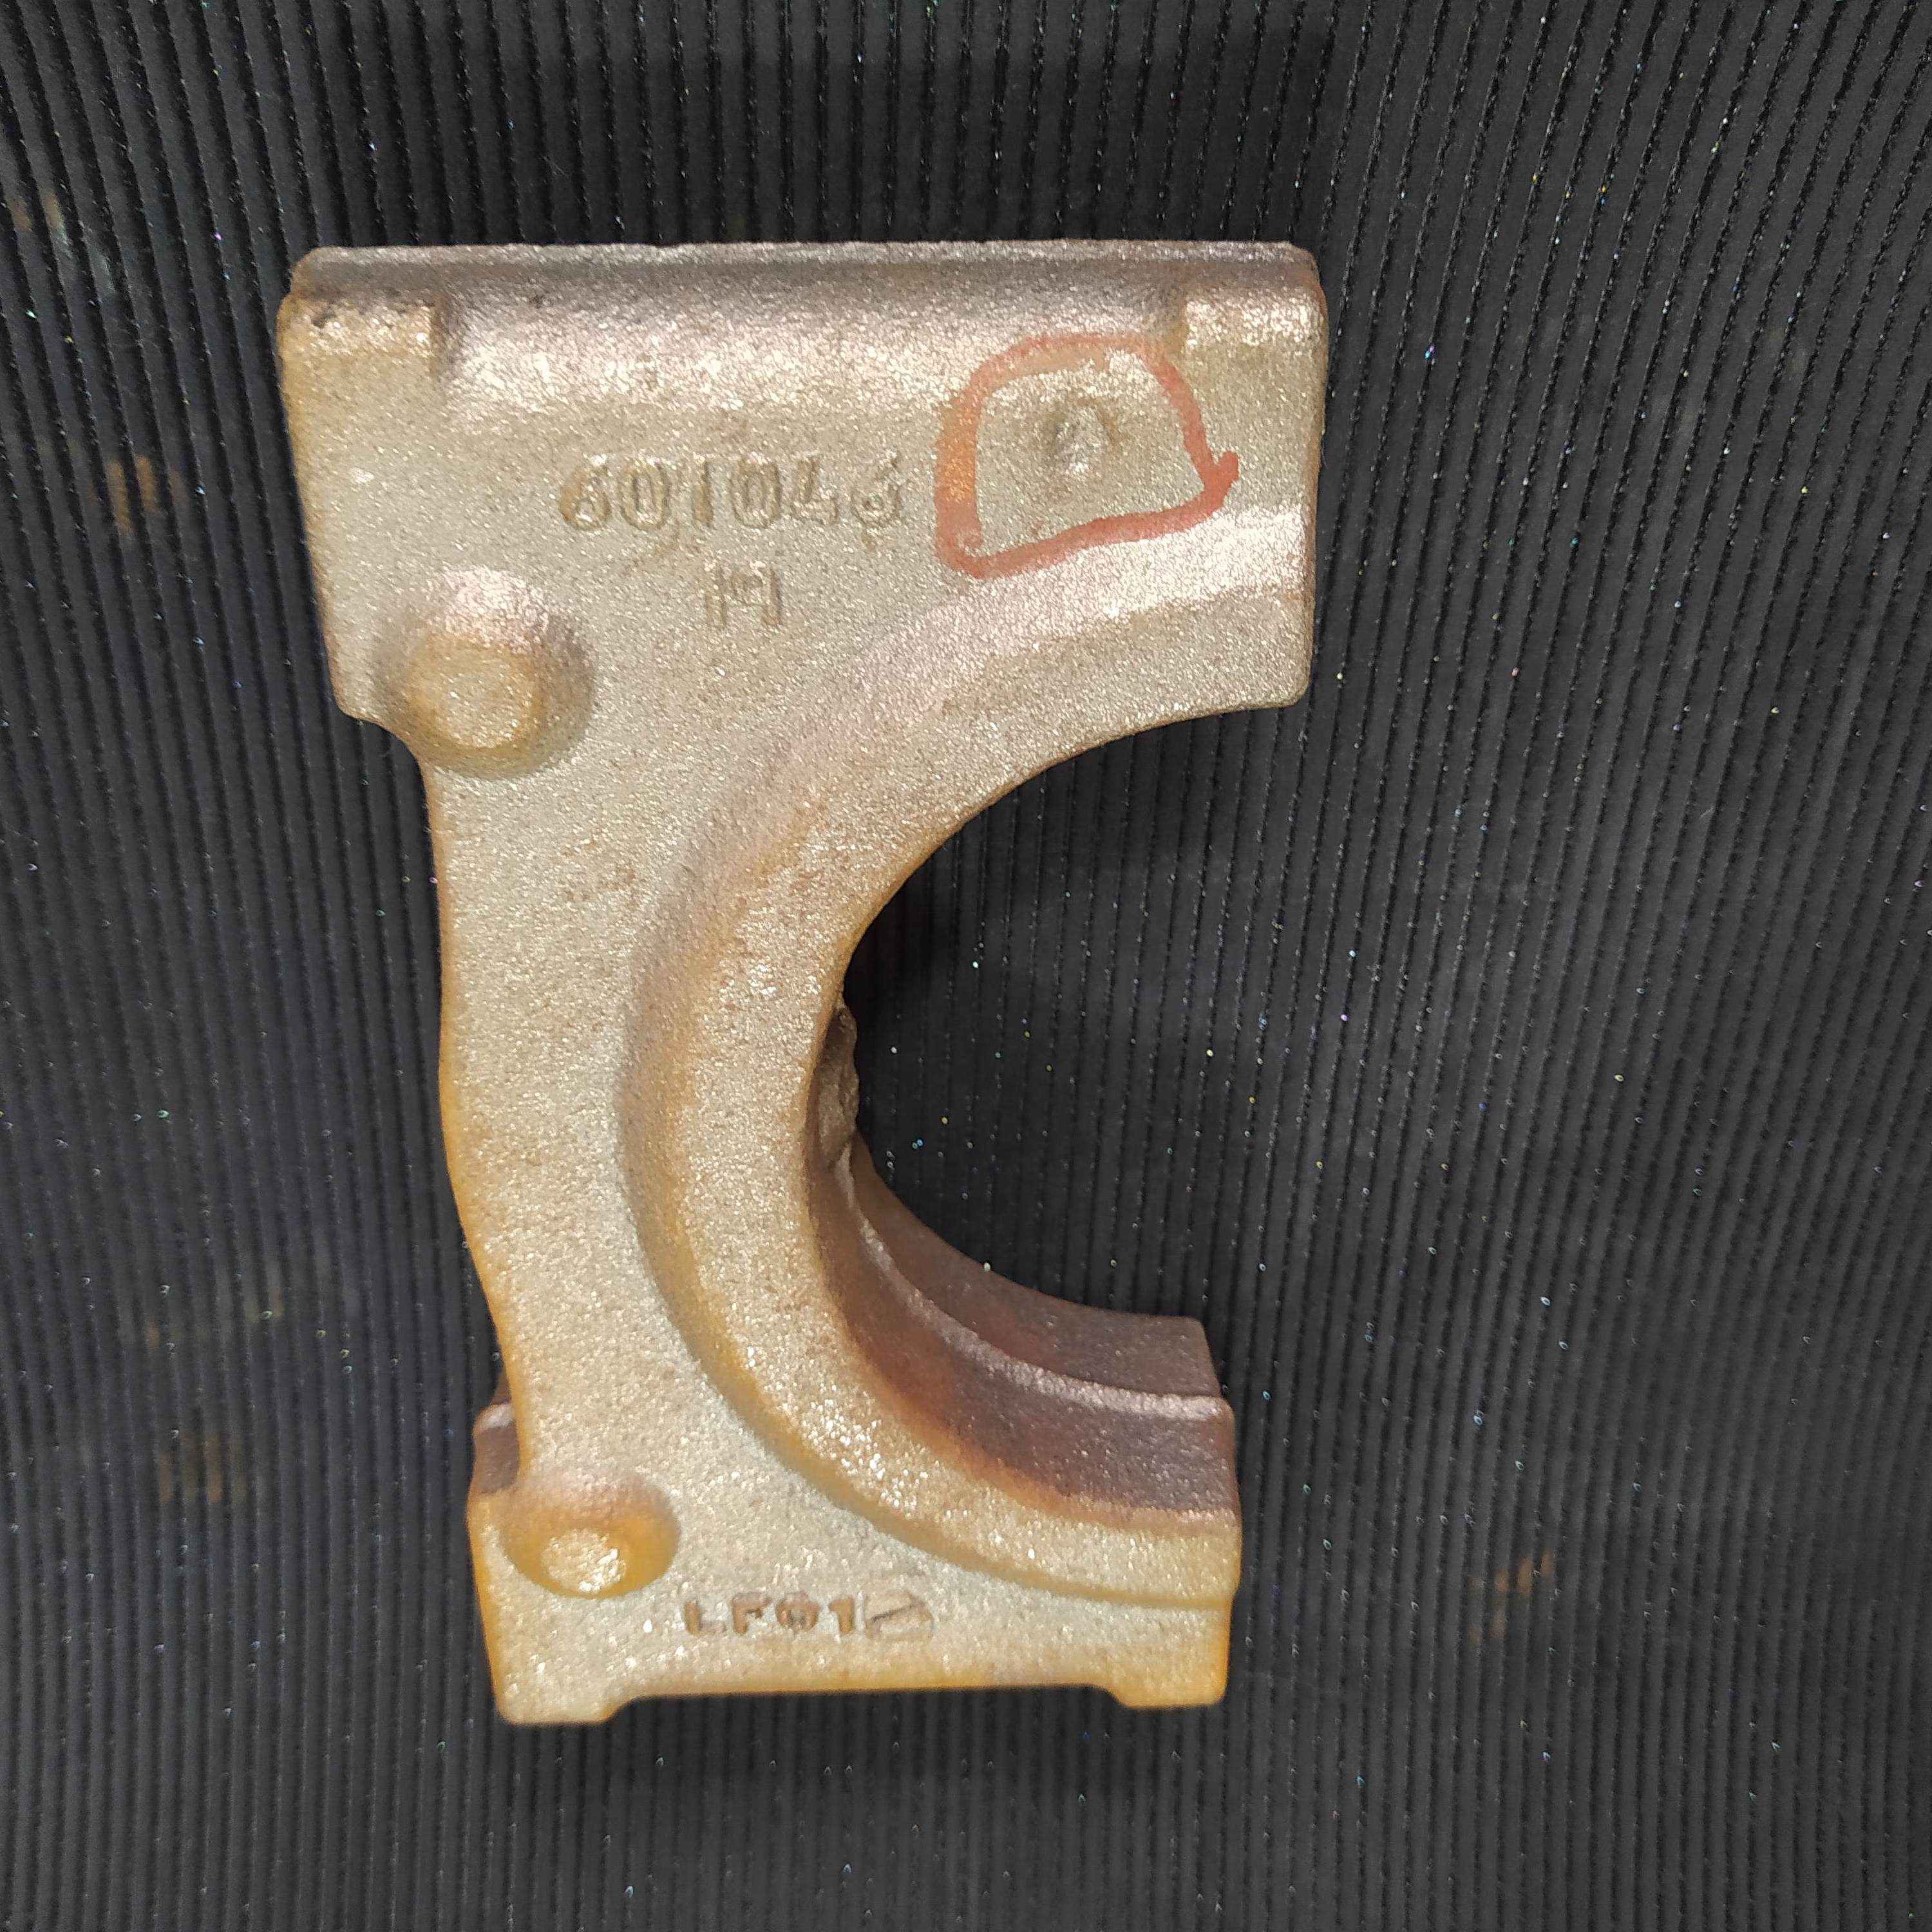buraco: (1047, 387, 1129, 479)
